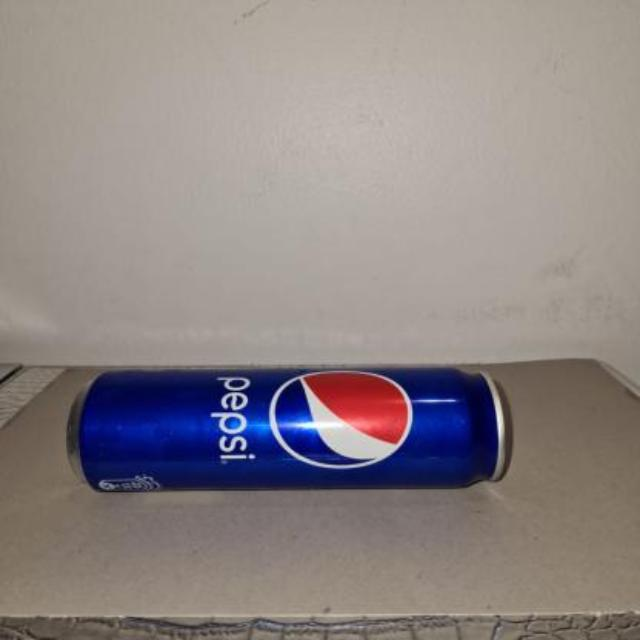metal: (66, 366, 508, 489)
